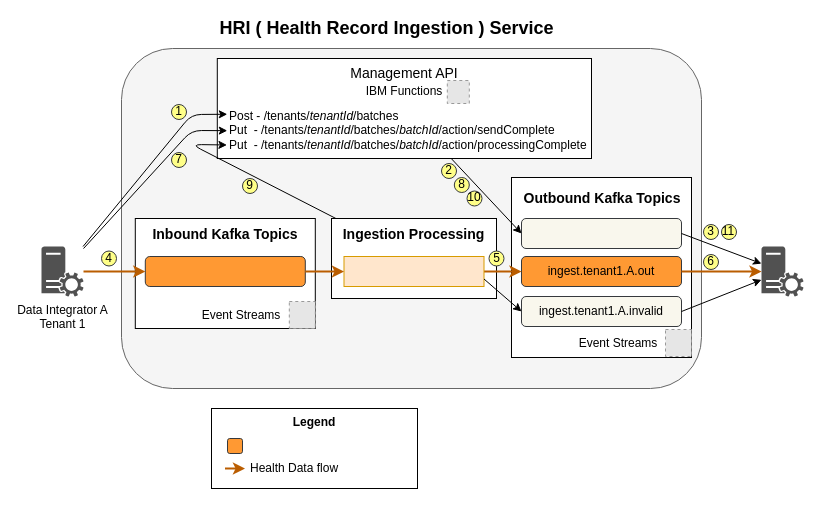
Image size: 827x506. Some labels were removed from this diagram. Grey dashed boxes stand in for pictures. Each missing label, with the centre of its shape:
"Consumer Tenant 1" belongs at (x=782, y=271).
"Health Data at rest" belongs at (x=234, y=446).
"ingest.tenant1.A.in" belongs at (x=224, y=271).
"ingest.tenant1.A.notification" belongs at (x=601, y=233).
"Validation Processing" belongs at (x=413, y=271).
